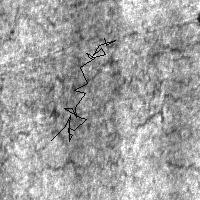crazing: (19, 53, 123, 171), (126, 29, 189, 137), (51, 38, 115, 141)
